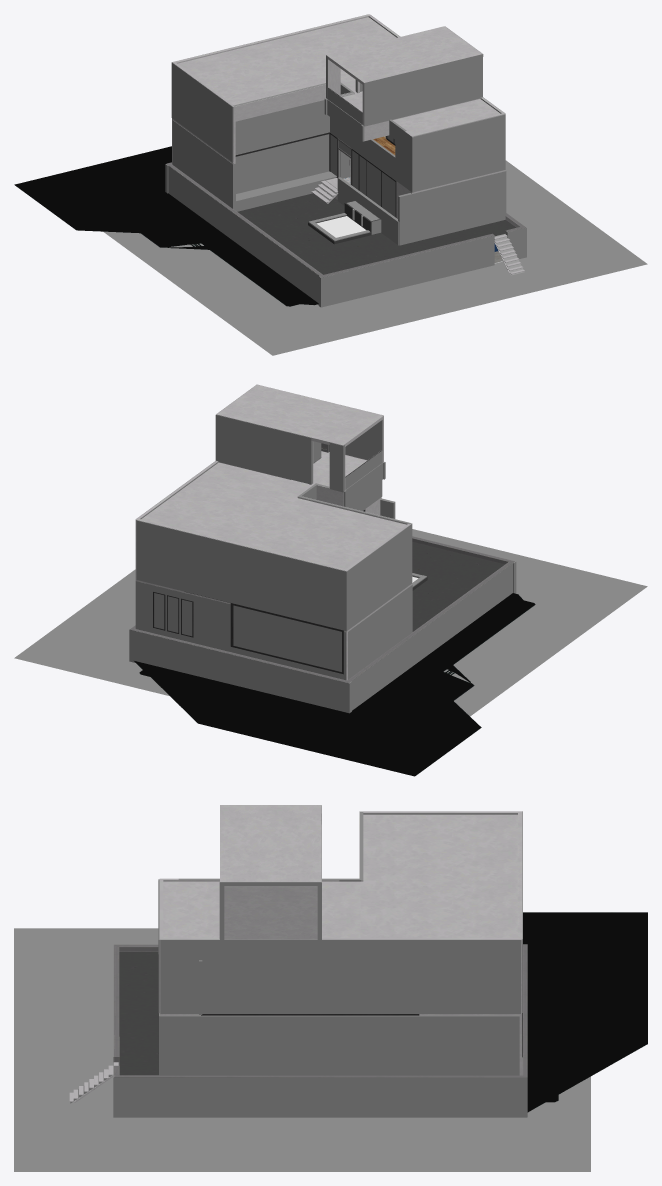
File: zhuzhai_chuanwu01.FBX
3 views of the same model, one above another, from view 1: azimuth 30°, elevation 25°; view 2: azimuth 150°, elevation 25°; view 3: azimuth 270°, elevation 25° (orthographic). The views are drawn at different scales.
Visible parts, largest first — view 1: floor_dz, box_1l, shadow, box_2l, floor_wd, wall_wd, Box005, Box012, Box004, Box011, wall_2l, wall_dz (+4 smaller); view 2: floor_dz, shadow, floor_wd, box_2l, box_1l, Box003, wall_wd, Box004, Box009, Box011, wall_dz, wall_2l (+3 smaller); view 3: floor_dz, box_2l, floor_wd, box_1l, shadow, Box002, wall_wd, wall_dz, wall_2l, wall_1l.
Part boxes in pixels (x1,y1,x2,y2): floor_dz: [103, 160, 647, 355]; box_1l: [172, 120, 506, 245]; shadow: [14, 146, 318, 306]; box_2l: [188, 15, 505, 192]; floor_wd: [177, 17, 499, 134]; wall_wd: [326, 26, 482, 126]; Box005: [318, 235, 494, 307]; Box012: [364, 57, 479, 126]; Box004: [168, 165, 325, 307]; Box011: [171, 62, 232, 162]; wall_2l: [172, 14, 505, 189]; wall_dz: [166, 162, 525, 277]; floor_dz: [14, 529, 647, 716]; shadow: [134, 593, 535, 776]; floor_wd: [141, 451, 406, 569]; box_2l: [136, 461, 410, 630]; box_1l: [135, 498, 412, 680]; Box003: [129, 630, 351, 713]; wall_wd: [216, 384, 383, 491]; Box004: [351, 563, 512, 710]; Box009: [215, 415, 312, 484]; Box011: [343, 524, 412, 631]; wall_dz: [129, 536, 514, 683]; wall_2l: [135, 457, 411, 630]; floor_dz: [14, 928, 590, 1171]; box_2l: [158, 812, 522, 1014]; floor_wd: [163, 814, 517, 937]; box_1l: [159, 1013, 519, 1075]; shadow: [523, 912, 647, 1112]; Box002: [113, 1078, 527, 1117]; wall_wd: [220, 805, 321, 939]; wall_dz: [69, 944, 527, 1102]; wall_2l: [159, 811, 522, 1013]; wall_1l: [159, 1013, 522, 1075].
Size of the model in its own units: 3164 by 1342 by 3297.
7 materials, 3 textured.
